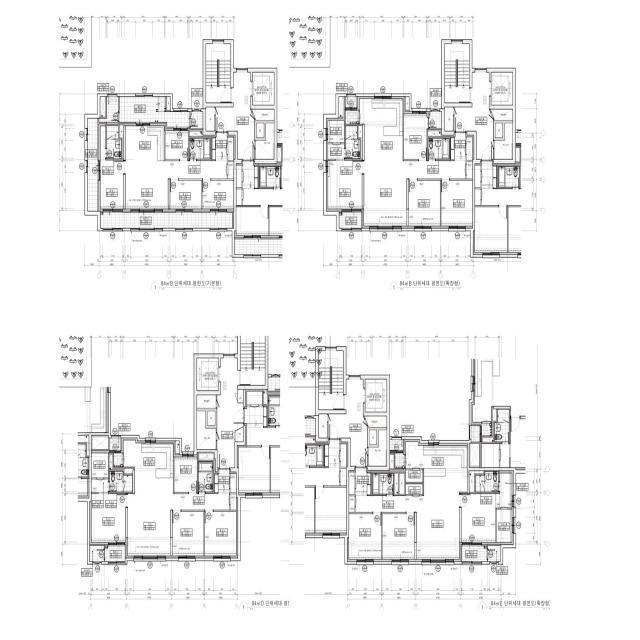space_balconi: (119, 97, 190, 127), (100, 213, 232, 228), (88, 119, 98, 211), (462, 545, 487, 561), (339, 213, 361, 228), (105, 546, 125, 562)
space_bedroom: (100, 126, 123, 209), (461, 494, 496, 542), (91, 494, 125, 542), (328, 161, 362, 209), (382, 514, 415, 559), (349, 514, 381, 559), (172, 512, 204, 556), (409, 181, 440, 226), (441, 181, 472, 226), (205, 512, 236, 556), (404, 114, 427, 159), (170, 181, 201, 209), (203, 181, 234, 209), (174, 457, 197, 492), (165, 131, 188, 160)
space_dressroom: (496, 473, 512, 542), (91, 453, 108, 492), (328, 121, 344, 159)
space_elevator: (197, 358, 219, 391), (365, 379, 387, 412), (491, 73, 513, 105), (253, 72, 274, 105)
space_elevator_hall: (215, 72, 255, 159), (454, 72, 493, 159), (328, 380, 367, 466), (217, 358, 243, 468)
space_front: (212, 133, 234, 160), (451, 133, 472, 160), (356, 468, 371, 495), (214, 470, 229, 494)
space_kitchen: (360, 99, 403, 161), (124, 440, 173, 494), (406, 442, 467, 468), (126, 126, 164, 161)
space_living_room: (356, 468, 467, 559), (364, 161, 473, 226), (128, 494, 229, 556), (125, 161, 234, 209)
space_other: (197, 411, 216, 449), (494, 123, 513, 159), (368, 430, 387, 466), (256, 123, 274, 159), (469, 471, 484, 492), (197, 395, 216, 408), (491, 109, 513, 120), (365, 416, 387, 427), (109, 454, 123, 470), (252, 110, 274, 120), (90, 546, 104, 561), (191, 112, 203, 129), (406, 470, 423, 482), (429, 112, 441, 128), (445, 107, 453, 131), (319, 414, 327, 438), (206, 108, 214, 131), (345, 110, 358, 124), (93, 437, 108, 449), (488, 546, 500, 561), (406, 484, 423, 494), (119, 126, 124, 159), (395, 453, 405, 468), (349, 472, 355, 495), (358, 125, 362, 159), (114, 453, 123, 467), (100, 97, 106, 117), (495, 123, 503, 138), (369, 430, 377, 445), (235, 427, 243, 442), (257, 123, 264, 138), (208, 411, 215, 426), (399, 473, 404, 494), (230, 494, 236, 510), (349, 496, 355, 512), (231, 474, 236, 493), (199, 454, 213, 460), (394, 473, 398, 494), (339, 97, 343, 117), (189, 131, 202, 137), (428, 131, 441, 137), (238, 390, 243, 403), (390, 455, 394, 469), (124, 469, 133, 474), (167, 97, 170, 110), (406, 97, 409, 110), (176, 441, 179, 453)
space_outdoor_room: (99, 97, 118, 122), (109, 438, 121, 450), (345, 97, 357, 108), (390, 440, 403, 450)
space_staircase: (206, 44, 231, 103), (445, 44, 469, 103), (319, 351, 343, 410), (241, 327, 265, 385)
space_toilet: (106, 126, 122, 159), (189, 138, 211, 159), (372, 473, 394, 494), (346, 126, 360, 158), (428, 138, 449, 159), (110, 472, 132, 492), (476, 472, 498, 492), (199, 462, 213, 492)
